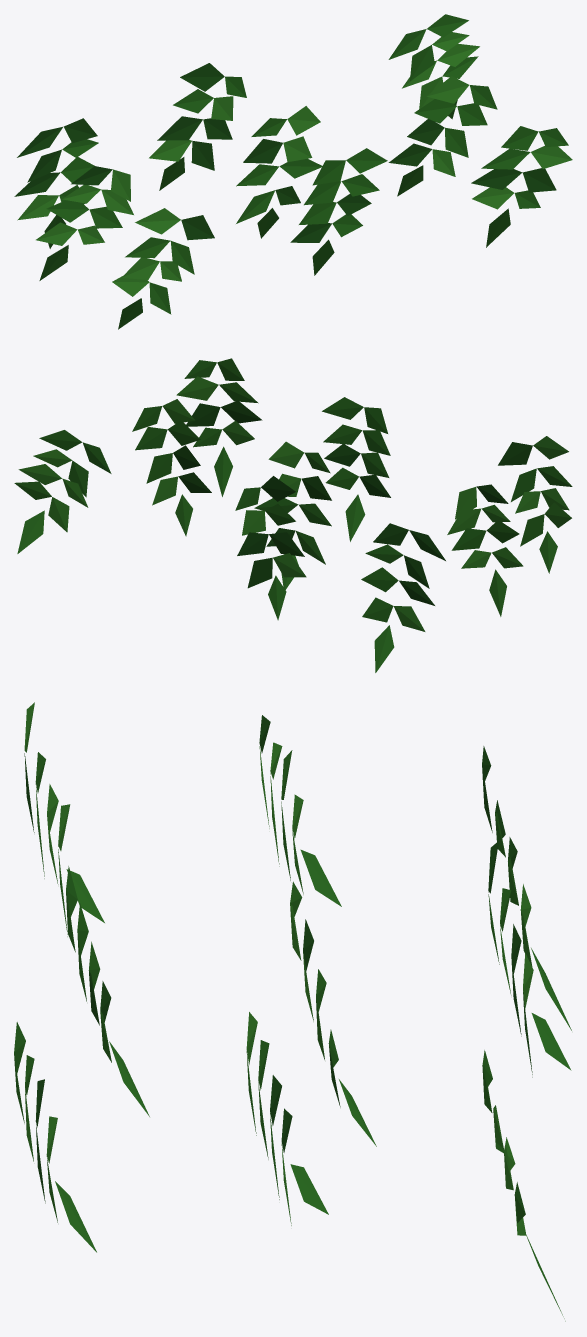
3 views of the same model, one above another, from view 1: azimuth 30°, elevation 25°; view 2: azimuth 150°, elevation 25°; view 3: azimuth 270°, elevation 25° (orthographic). The views are drawn at different scales.
Visible parts, largest first — view 1: r12c1_l01; view 2: r12c1_l01; view 3: r12c1_l01.
Part boxes in pixels (left/top/right/bottom): r12c1_l01: left=14, top=14, right=572, bottom=329; r12c1_l01: left=14, top=358, right=572, bottom=672; r12c1_l01: left=14, top=702, right=571, bottom=1321.
Size of the model in its own units: 1.61 by 0.5166 by 0.8593.
